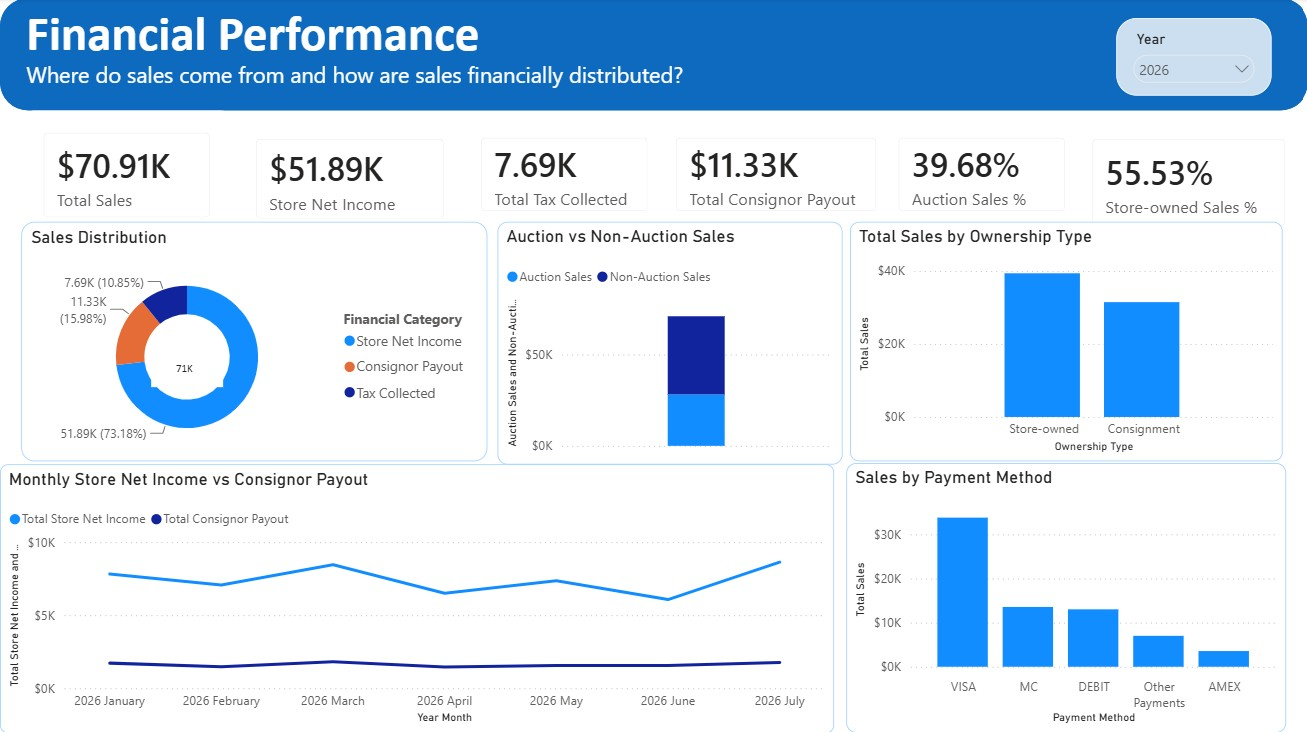

What the dashboard file says about the page in this screenshot:
{"tool":"powerbi","page":{"name":"Financial Performance","canvas":[1280,720],"ordinal":3},"visuals":[{"type":"shape","box":[0,0,1280.3,110.1],"z":0},{"type":"textbox","box":[20.8,0,618.8,72.1],"z":1000},{"type":"textbox","box":[20.8,55.2,694.6,41.6],"z":2000},{"type":"cardVisual","title":"Total Sales","fields":{"Data":["Metrics.Total Sales"]},"box":[20.8,110.1,207.9,127.2],"z":3000},{"type":"cardVisual","fields":{"Data":["Metrics.Total Store Net Income"]},"box":[228.7,116.2,228.7,122.3],"z":4000},{"type":"cardVisual","fields":{"Data":["Metrics.Total Consignor Share"]},"box":[639.5,114.9,240.9,116.2],"z":5000},{"type":"cardVisual","fields":{"Data":["Metrics.Auction Sales %"]},"box":[857.2,114.9,207,116],"z":6000},{"type":"slicer","fields":{"Values":["DateTable.Year"]},"box":[1092.5,19.8,152,76],"z":7000},{"type":"cardVisual","fields":{"Data":["Metrics.Total Tax Collected"]},"box":[448.8,114.9,207,116],"z":8000},{"type":"cardVisual","fields":{"Data":["Metrics.Store-owned Sales %"]},"box":[1046.7,116.2,233.6,129.6],"z":9000},{"type":"donutChart","title":"Sales Distribution","fields":{"Y":["Metrics.Financial Breakdown Value"],"Category":["Financial Breakdown.Financial Category"]},"box":[20.8,218.9,456.1,234.8],"z":10000},{"type":"columnChart","title":"Auction vs Non-Auction Sales","fields":{"Y":["Metrics.Auction Sales","Metrics.Non-Auction Sales"]},"box":[486.7,218.9,337.5,237.2],"z":11000},{"type":"clusteredColumnChart","fields":{"Category":["RawFiles.Ownership Type"],"Y":["Metrics.Total Sales"]},"box":[831.5,218.9,423.1,234.8],"z":12000},{"type":"lineChart","title":"Monthly Store Net Income vs Consignor Payout","fields":{"Category":["DateTable.Year Month"],"Y":["Metrics.Total Store Net Income","Metrics.Total Consignor Payout"]},"box":[0,456.1,815.6,262.9],"z":13000},{"type":"clusteredColumnChart","title":"Sales by Payment Method","fields":{"Y":["Metrics.Total Sales"],"Category":["RawFiles.Payment Method"]},"box":[827.9,454.9,430.4,264.1],"z":15000},{"type":"cardVisual","fields":{"Data":["Metrics.Total Sales"]},"box":[143.1,337.5,80.7,48.9],"z":16000}]}

Visuals, with their boxes in screenshot pixels (x1, y1, x2, y2), scaled from the page's 1280x720 canvas onto the 1307x732 screenshot:
shape: bbox=(0, 0, 1306, 112)
textbox: bbox=(21, 0, 653, 73)
textbox: bbox=(21, 56, 730, 98)
"Total Sales" cardVisual: bbox=(21, 112, 234, 241)
cardVisual - Metrics.Total Store Net Income: bbox=(234, 118, 467, 242)
cardVisual - Metrics.Total Consignor Share: bbox=(653, 117, 899, 235)
cardVisual - Metrics.Auction Sales %: bbox=(875, 117, 1087, 235)
slicer - DateTable.Year: bbox=(1116, 20, 1271, 97)
cardVisual - Metrics.Total Tax Collected: bbox=(458, 117, 670, 235)
cardVisual - Metrics.Store-owned Sales %: bbox=(1069, 118, 1306, 250)
"Sales Distribution" donutChart: bbox=(21, 223, 487, 461)
"Auction vs Non-Auction Sales" columnChart: bbox=(497, 223, 842, 464)
clusteredColumnChart - RawFiles.Ownership Type x Metrics.Total Sales: bbox=(849, 223, 1281, 461)
"Monthly Store Net Income vs Consignor Payout" lineChart: bbox=(0, 464, 833, 731)
"Sales by Payment Method" clusteredColumnChart: bbox=(845, 462, 1285, 731)
cardVisual - Metrics.Total Sales: bbox=(146, 343, 229, 393)
